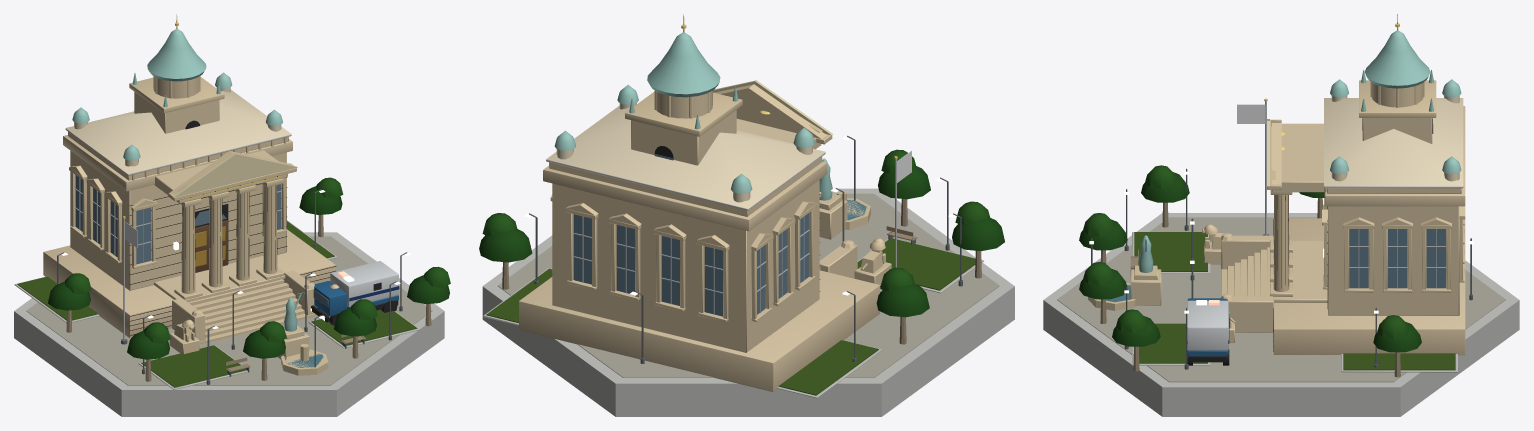
The model's file is courthouse_arab.glb.
The picture shows the model from 3 angles, left to right: view 1: azimuth 30°, elevation 25°; view 2: azimuth 150°, elevation 25°; view 3: azimuth 270°, elevation 25°; orthographic projection. The views are drawn at different scales.
Parts seen in each view (by area): view 1: stone, wall_concrete, pavers, plaster, leaf, turf, copper, dark, glass, paint, wood, steel_dark (+1 smaller); view 2: stone, wall_concrete, plaster, pavers, leaf, glass, turf, copper, steel_dark, wood; view 3: stone, wall_concrete, pavers, plaster, leaf, turf, copper, glass, paint, steel_dark, wood, dark (+1 smaller).
Part boxes in pixels (<box>): stone: <box>43,76,339,375</box>; wall_concrete: <box>14,129,444,416</box>; pavers: <box>26,236,432,385</box>; plaster: <box>65,87,291,174</box>; leaf: <box>48,177,450,359</box>; turf: <box>17,221,417,387</box>; copper: <box>72,29,304,331</box>; dark: <box>129,120,398,335</box>; glass: <box>75,175,328,367</box>; paint: <box>314,261,399,316</box>; wood: <box>66,214,431,381</box>; steel_dark: <box>56,189,407,384</box>; stone: <box>519,80,891,391</box>; wall_concrete: <box>482,152,1014,416</box>; plaster: <box>546,103,825,208</box>; pavers: <box>498,193,999,377</box>; leaf: <box>479,149,1004,317</box>; glass: <box>574,154,866,316</box>; turf: <box>486,238,975,395</box>; copper: <box>554,32,832,200</box>; steel_dark: <box>529,135,962,363</box>; wood: <box>502,199,981,344</box>; stone: <box>1088,80,1465,355</box>; wall_concrete: <box>1043,186,1519,416</box>; pavers: <box>1057,217,1505,382</box>; plaster: <box>1324,95,1463,186</box>; leaf: <box>1079,165,1421,352</box>; turf: <box>1134,232,1455,370</box>; copper: <box>1138,30,1461,272</box>; glass: <box>1099,124,1445,302</box>; paint: <box>1187,298,1229,356</box>; steel_dark: <box>1091,168,1472,369</box>; wood: <box>1100,198,1400,377</box>; dark: <box>1187,118,1432,365</box>.
Size of the model in its own units: 21.41 by 18 by 24.6.
